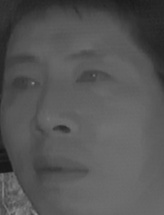eye: (74, 64, 111, 87), (7, 71, 40, 93)
mouth: (28, 147, 94, 190)
